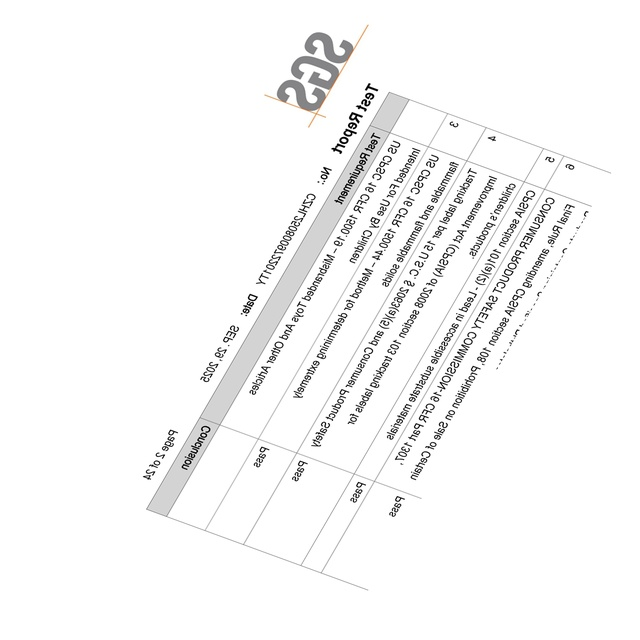sgs: (276, 30, 354, 112)
